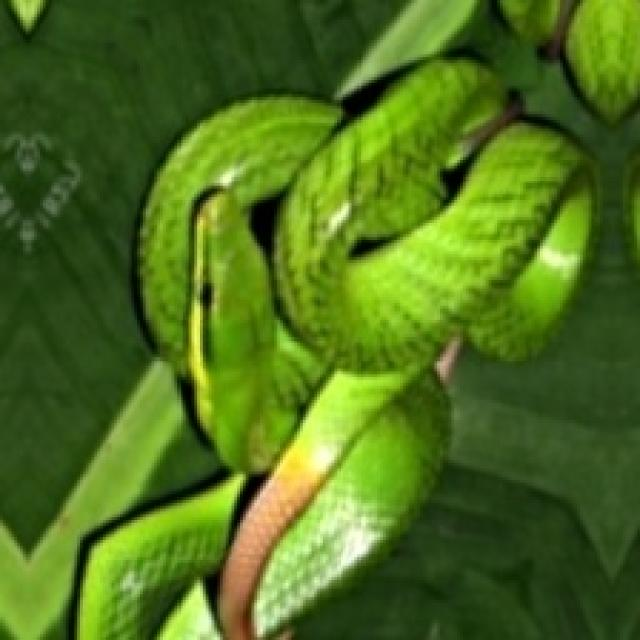red-tailed green ratsnake: (77, 0, 637, 637)
